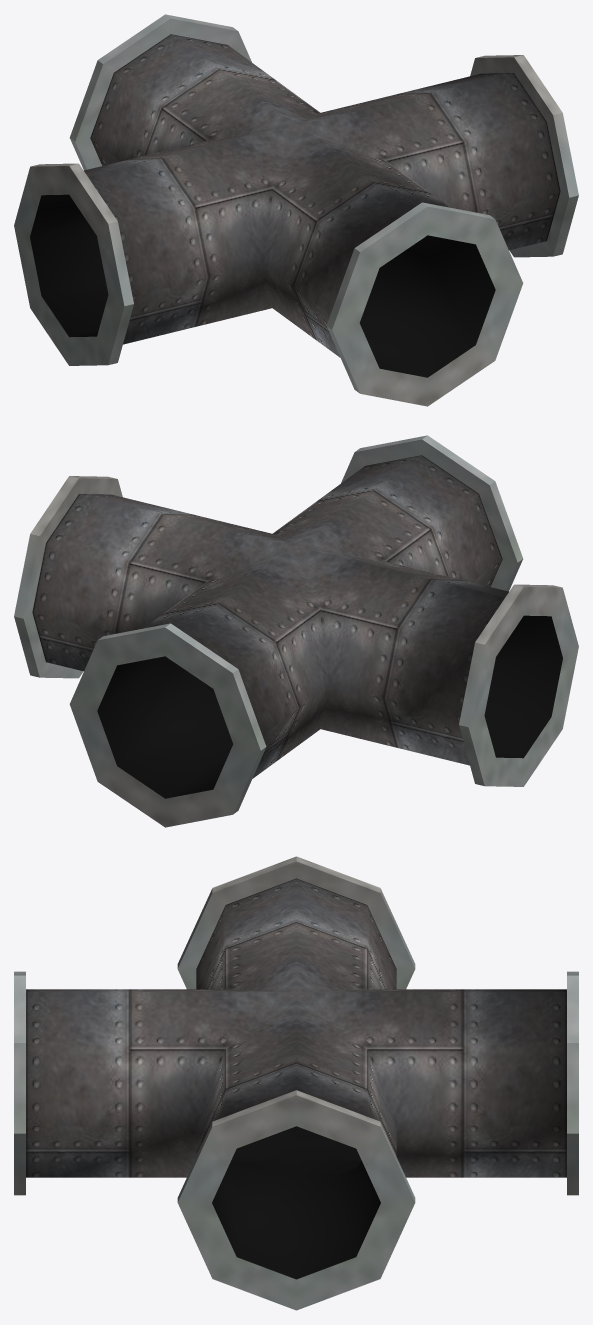
The model's file is pipe_X.glb.
The picture shows the model from 3 angles, top to bottom: view 1: azimuth 30°, elevation 25°; view 2: azimuth 150°, elevation 25°; view 3: azimuth 270°, elevation 25°; orthographic projection. The views are drawn at different scales.
Visible parts, largest first — view 1: zhuti.X; view 2: zhuti.X; view 3: zhuti.X.
Boxes of the visible parts, left/top/right/bottom form: zhuti.X: left=14, top=14, right=578, bottom=406; zhuti.X: left=14, top=435, right=578, bottom=827; zhuti.X: left=14, top=856, right=578, bottom=1310.
Size of the model in its own units: 10 by 4.21 by 10.
Materials: 1 (1 with a texture image).
